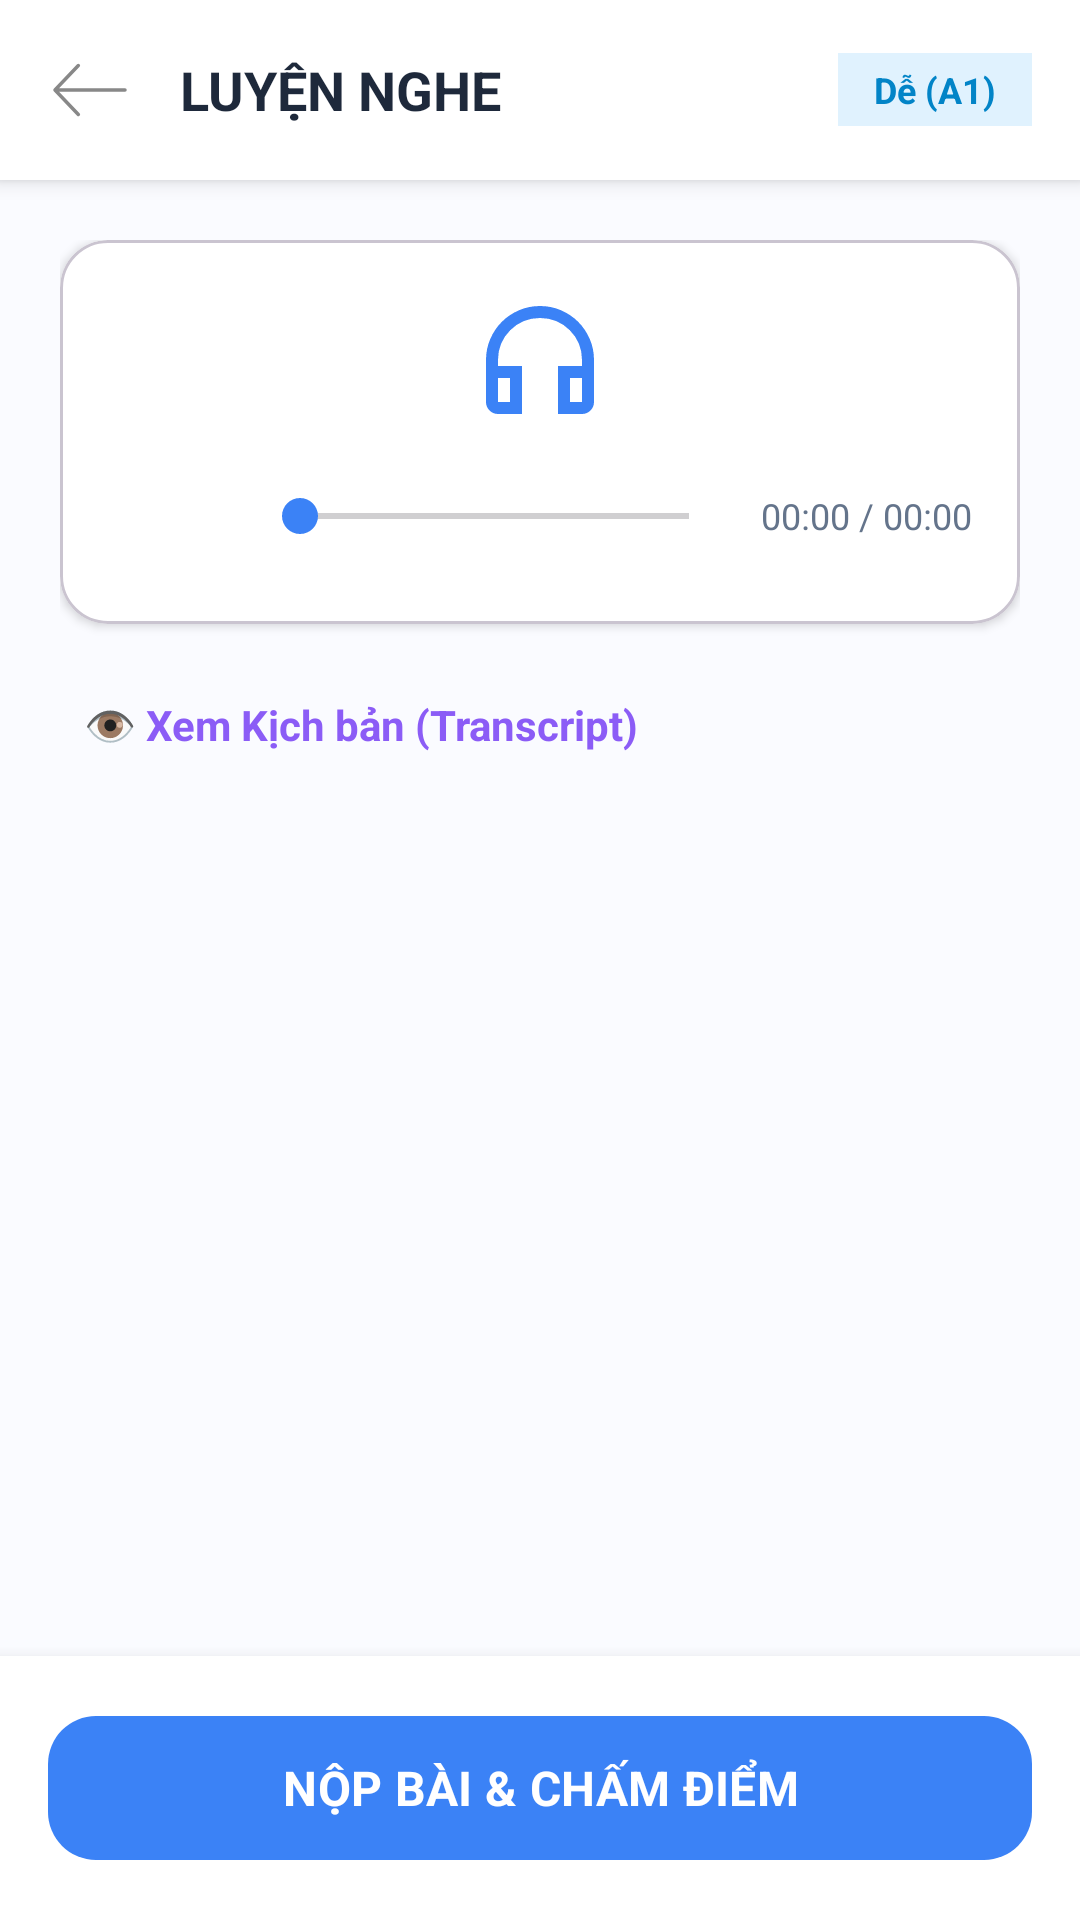

Screen size 1080 x 1920. Icon name, then its box in pixels as bbox=(x1, y1, x2, y2):
back: bbox=(53, 64, 127, 117)
headphone: bbox=(486, 306, 594, 414)
